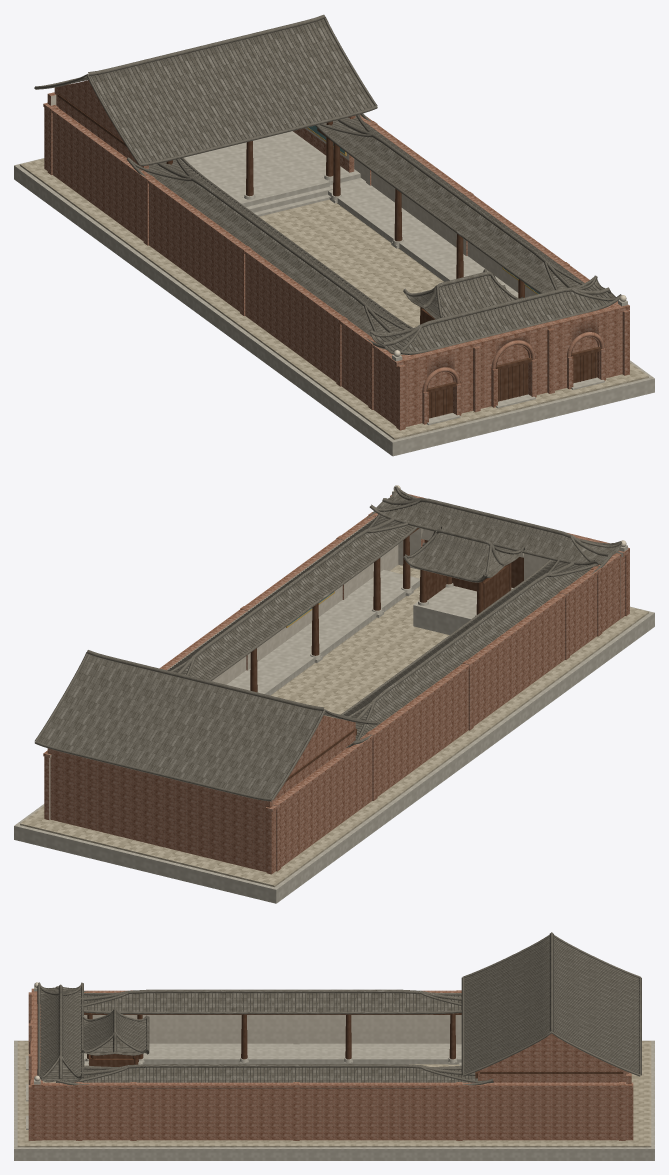
Rendered from roof-b.glb.
3 renders of one model, top to bottom at view 1: azimuth 30°, elevation 25°; view 2: azimuth 150°, elevation 25°; view 3: azimuth 270°, elevation 25°, orthographic. The views are drawn at different scales.
Parts seen in each view (by area): view 1: 02_Enclosure, 01_Base, 08_HallRoofCandidate, 07_Entrance, 05_EastGallery, 03_MainHall, 04_WestGallery, 06_Stage; view 2: 02_Enclosure, 01_Base, 08_HallRoofCandidate, 05_EastGallery, 07_Entrance, 04_WestGallery, 06_Stage, 03_MainHall; view 3: 02_Enclosure, 08_HallRoofCandidate, 04_WestGallery, 01_Base, 05_EastGallery, 07_Entrance, 06_Stage, 03_MainHall.
Part boxes in pixels (<box>): 02_Enclosure: <box>43,92,617,423</box>; 01_Base: <box>14,158,654,456</box>; 08_HallRoofCandidate: <box>34,14,377,168</box>; 07_Entrance: <box>370,275,629,430</box>; 05_EastGallery: <box>315,113,611,298</box>; 03_MainHall: <box>58,97,360,216</box>; 04_WestGallery: <box>126,157,412,349</box>; 06_Stage: <box>403,269,522,324</box>; 02_Enclosure: <box>43,512,621,874</box>; 01_Base: <box>14,565,654,903</box>; 08_HallRoofCandidate: <box>34,650,377,801</box>; 05_EastGallery: <box>167,498,419,695</box>; 07_Entrance: <box>369,485,629,618</box>; 04_WestGallery: <box>336,553,612,747</box>; 06_Stage: <box>403,526,524,634</box>; 03_MainHall: <box>273,729,356,801</box>; 02_Enclosure: <box>42,990,633,1140</box>; 08_HallRoofCandidate: <box>461,932,641,1082</box>; 04_WestGallery: <box>56,986,461,1064</box>; 01_Base: <box>14,1040,654,1160</box>; 05_EastGallery: <box>56,1064,493,1088</box>; 07_Entrance: <box>26,982,83,1140</box>; 06_Stage: <box>81,1009,149,1066</box>; 03_MainHall: <box>459,1062,623,1082</box>.
Size of the model in its own units: 11.8 by 6.39 by 29.5.
13 materials, 10 textured.
